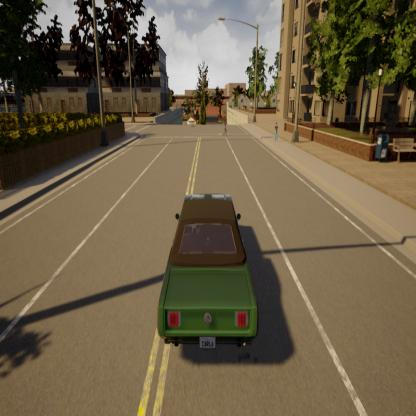Cars: (152, 162, 281, 372)
Pedestrian: (220, 112, 229, 143), (270, 117, 280, 144)
